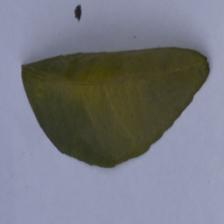black spot: (15, 39, 210, 170)
